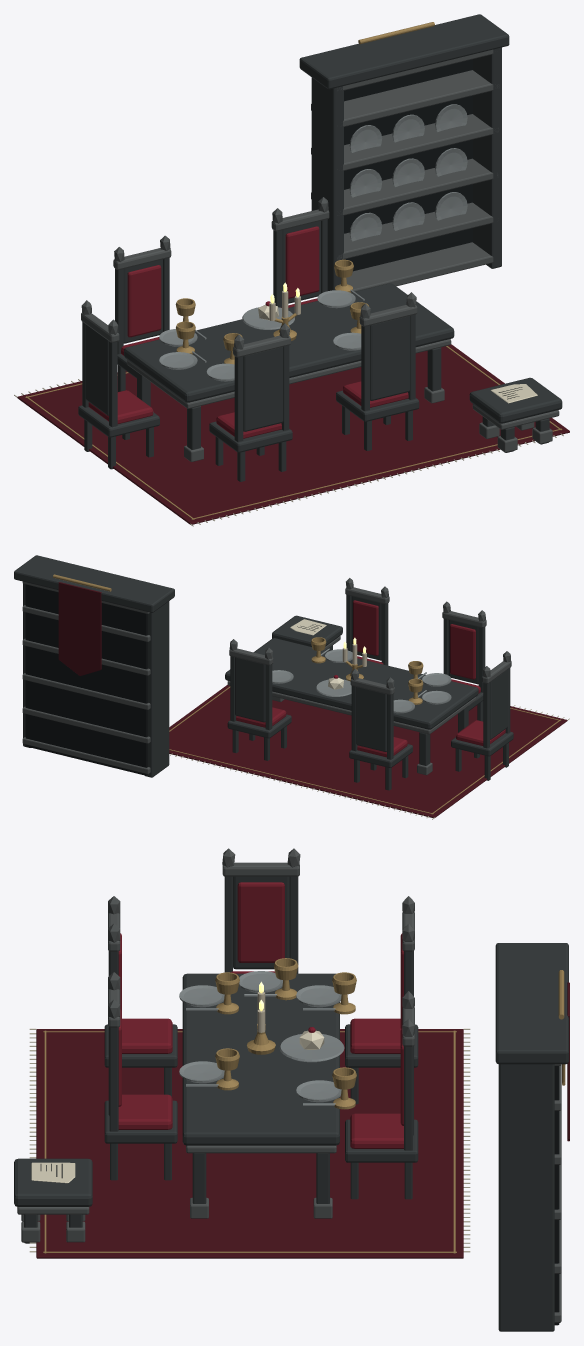
The model's file is ROOM_dining.glb.
3 renders of one model, top to bottom at view 1: azimuth 30°, elevation 25°; view 2: azimuth 150°, elevation 25°; view 3: azimuth 270°, elevation 25°, orthographic. The views are drawn at different scales.
Parts seen in each view (by area): view 1: ROOM_dining__wood, ROOM_dining__redshadow, ROOM_dining__woodedge, ROOM_dining__steel, ROOM_dining__coal, ROOM_dining__red, ROOM_dining__brass, ROOM_dining__paper; view 2: ROOM_dining__wood, ROOM_dining__redshadow, ROOM_dining__coal, ROOM_dining__woodedge, ROOM_dining__red, ROOM_dining__brass, ROOM_dining__steel, ROOM_dining__paper; view 3: ROOM_dining__wood, ROOM_dining__redshadow, ROOM_dining__red, ROOM_dining__woodedge, ROOM_dining__brass, ROOM_dining__steel, ROOM_dining__coal, ROOM_dining__paper, ROOM_dining__edge.
Part boxes in pixels (x1,y1,x2,y2): ROOM_dining__wood: (78, 14, 562, 481); ROOM_dining__redshadow: (17, 344, 569, 524); ROOM_dining__woodedge: (81, 49, 559, 461); ROOM_dining__steel: (159, 104, 467, 381); ROOM_dining__coal: (344, 59, 522, 399); ROOM_dining__red: (88, 226, 408, 438); ROOM_dining__brass: (25, 22, 562, 519); ROOM_dining__paper: (258, 304, 537, 403); ROOM_dining__wood: (14, 555, 513, 790); ROOM_dining__redshadow: (58, 582, 567, 817); ROOM_dining__coal: (25, 584, 321, 775); ROOM_dining__woodedge: (22, 578, 511, 775); ROOM_dining__red: (236, 600, 505, 757); ROOM_dining__brass: (53, 574, 560, 814); ROOM_dining__steel: (272, 648, 451, 713); ROOM_dining__paper: (290, 619, 343, 689); ROOM_dining__wood: (14, 876, 568, 1331); ROOM_dining__redshadow: (36, 982, 569, 1258); ROOM_dining__red: (118, 882, 403, 1148); ROOM_dining__woodedge: (17, 848, 561, 1322); ROOM_dining__brass: (43, 958, 565, 1253); ROOM_dining__steel: (179, 971, 344, 1105); ROOM_dining__coal: (40, 1066, 559, 1325); ROOM_dining__paper: (31, 1030, 324, 1183); ROOM_dining__edge: (29, 1028, 470, 1252).
Size of the model in its own units: 6.47 by 2.87 by 4.94.
